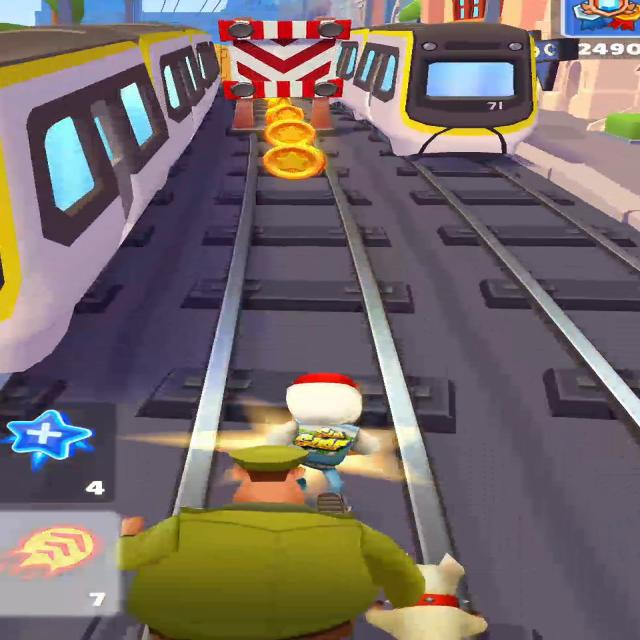jump-barrier: (219, 17, 350, 129)
police: (106, 444, 430, 640)
train: (0, 20, 226, 382), (0, 26, 174, 374), (340, 14, 547, 155), (114, 23, 219, 137)
